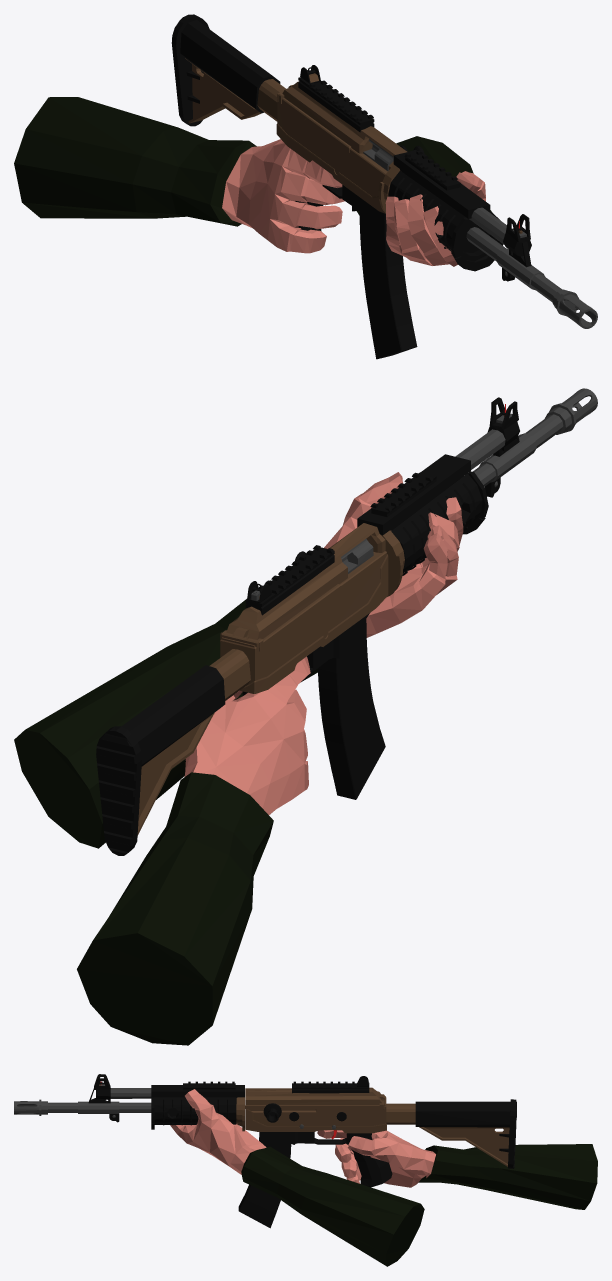
File: galil.obj
The picture shows the model from 3 angles, top to bottom: view 1: azimuth 30°, elevation 25°; view 2: azimuth 150°, elevation 25°; view 3: azimuth 270°, elevation 25°; orthographic projection. The views are drawn at different scales.
Visible parts, largest first — view 1: armmesh_Mesh, poignee_galil_ar.026, chargeur_galil_ar.136; view 2: armmesh_Mesh, poignee_galil_ar.026, chargeur_galil_ar.136; view 3: armmesh_Mesh, poignee_galil_ar.026, chargeur_galil_ar.136, culasse_galil_ar.142.
Boxes of the visible parts, x1,y1,x2,y2 form: armmesh_Mesh: [14, 97, 492, 266]; poignee_galil_ar.026: [171, 14, 597, 328]; chargeur_galil_ar.136: [359, 210, 417, 359]; armmesh_Mesh: [14, 472, 463, 1045]; poignee_galil_ar.026: [96, 388, 597, 855]; chargeur_galil_ar.136: [317, 619, 385, 799]; armmesh_Mesh: [170, 1089, 597, 1266]; poignee_galil_ar.026: [14, 1074, 516, 1187]; chargeur_galil_ar.136: [238, 1132, 291, 1228]; culasse_galil_ar.142: [263, 1103, 281, 1122].
Bounding box in the file's own units: 1.48 × 1.14 × 3.83.
